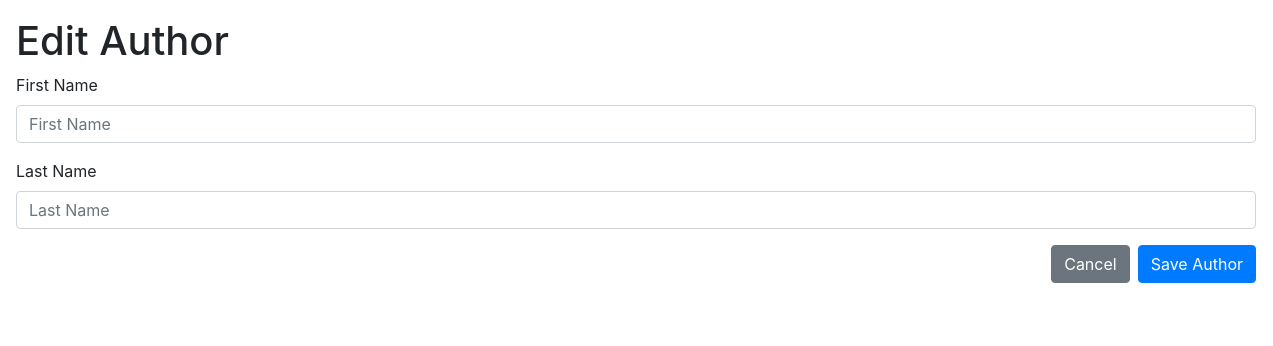
AuthorEdit › should handle validation errors when saving an author
This screenshot has width=1273, height=346.
Click the button "Save Author" at (1197, 264), box [1138,245,1256,283]
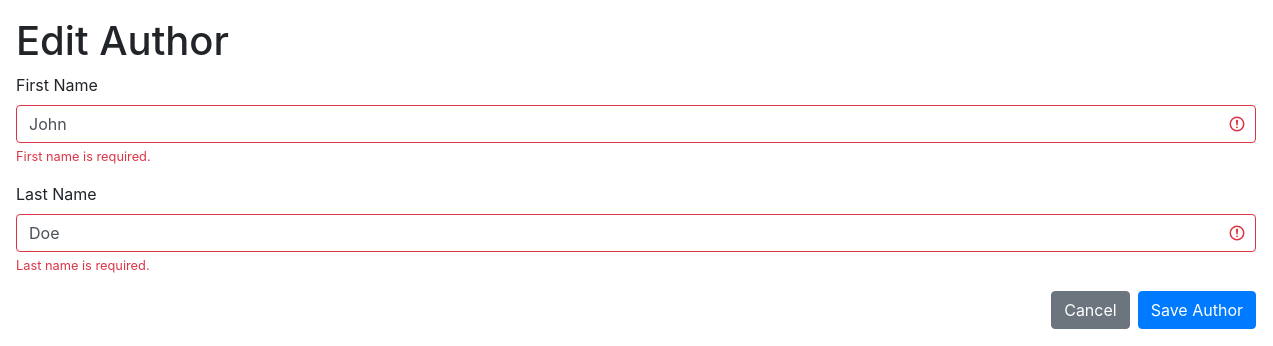
Check: the heading "Edit Author" is shown, box [16,16,229,65]
Check: the text "First name is required." is shown, box [16,149,151,164]
Check: the text "Last name is required." is shown, box [16,258,150,273]
